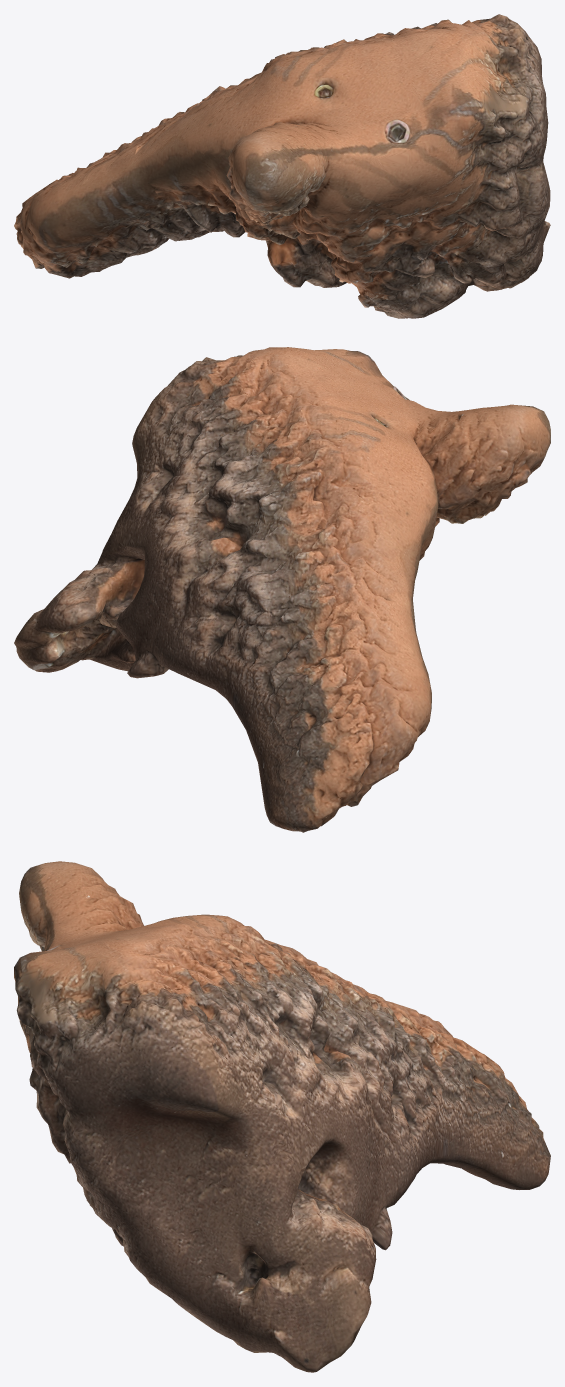
The model's file is 08_piri.glb.
3 views of the same model, one above another, from view 1: azimuth 30°, elevation 25°; view 2: azimuth 150°, elevation 25°; view 3: azimuth 270°, elevation 25° (orthographic). The views are drawn at different scales.
Visible parts, largest first — view 1: Group11176; view 2: Group11176; view 3: Group11176.
Part boxes in pixels (x1,y1,x2,y2): Group11176: (14,14,550,318); Group11176: (14,347,550,832); Group11176: (14,861,550,1372).
Size of the model in its own units: 3.46 by 2.28 by 3.26.
1 material, 1 textured.
